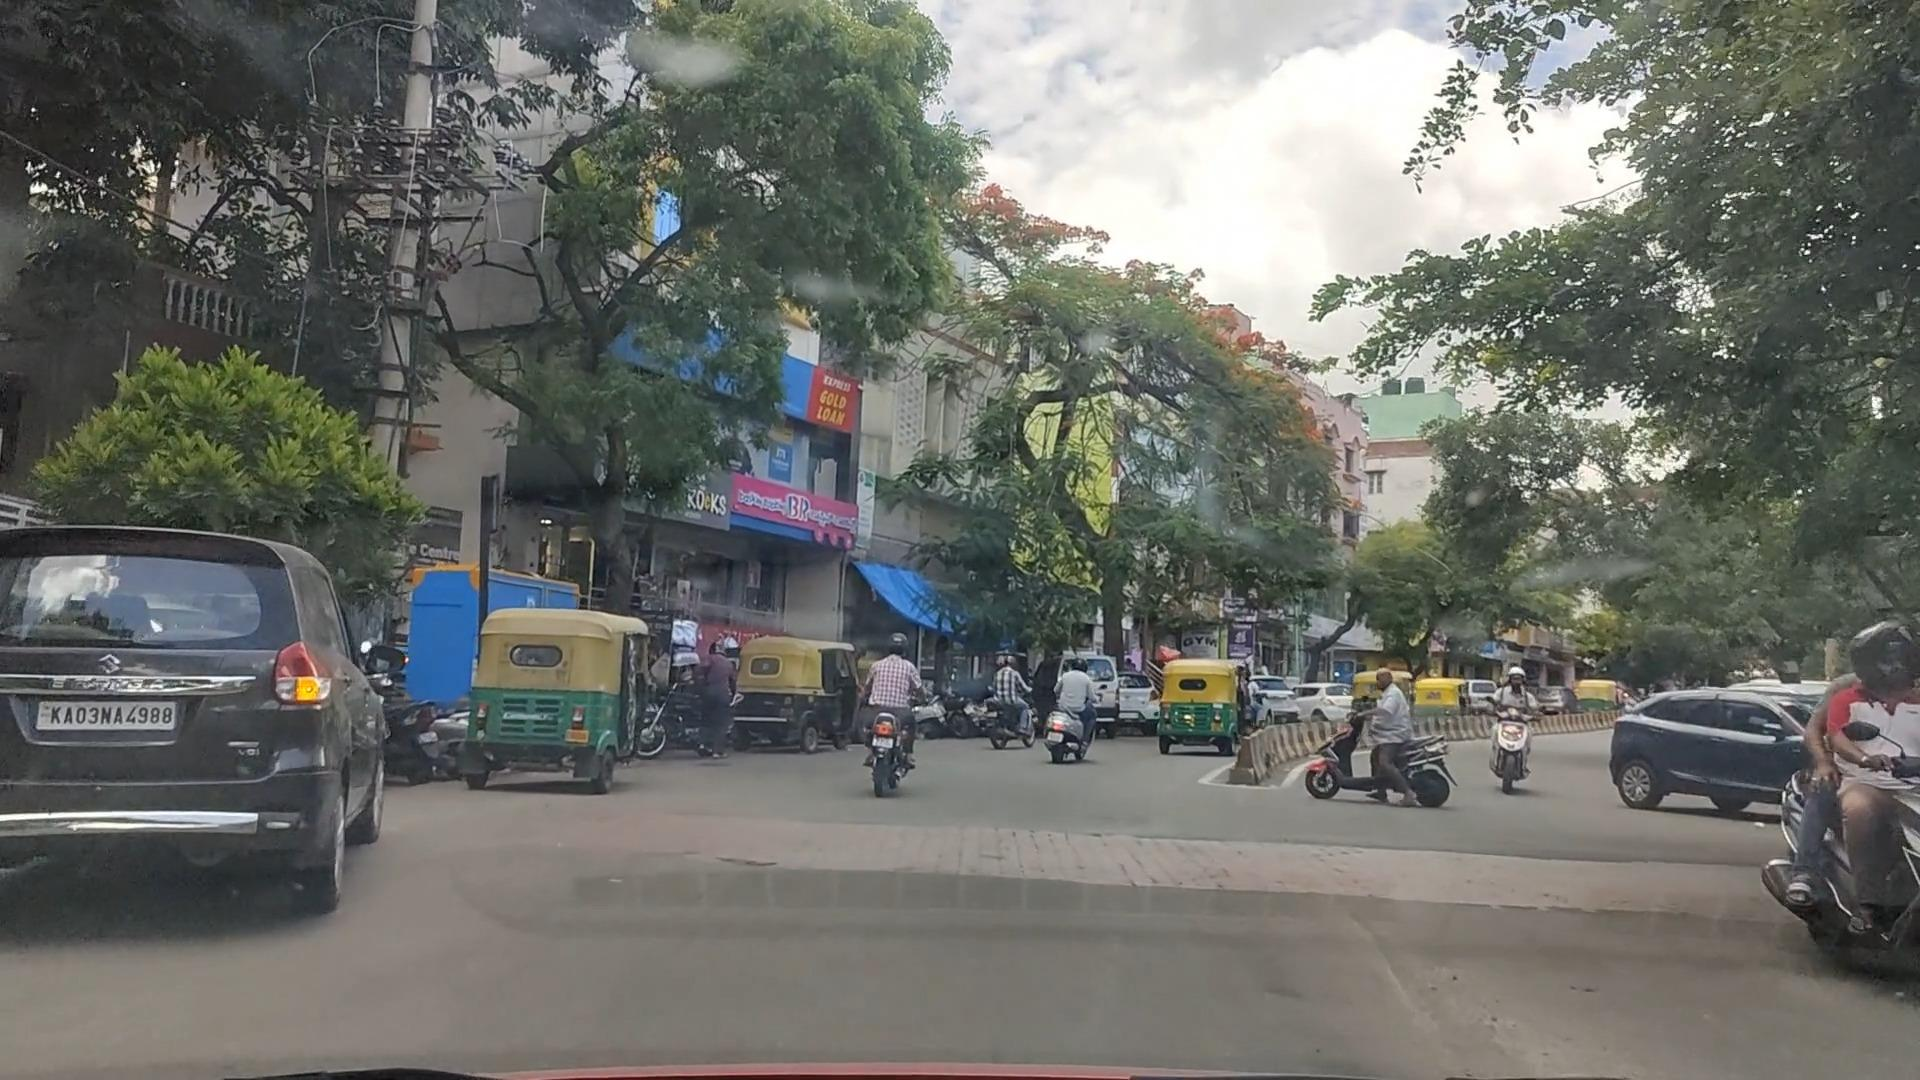LMV: (0, 524, 384, 922), (462, 603, 645, 796), (848, 638, 923, 778)
SpeedBump: (458, 819, 1185, 951)
